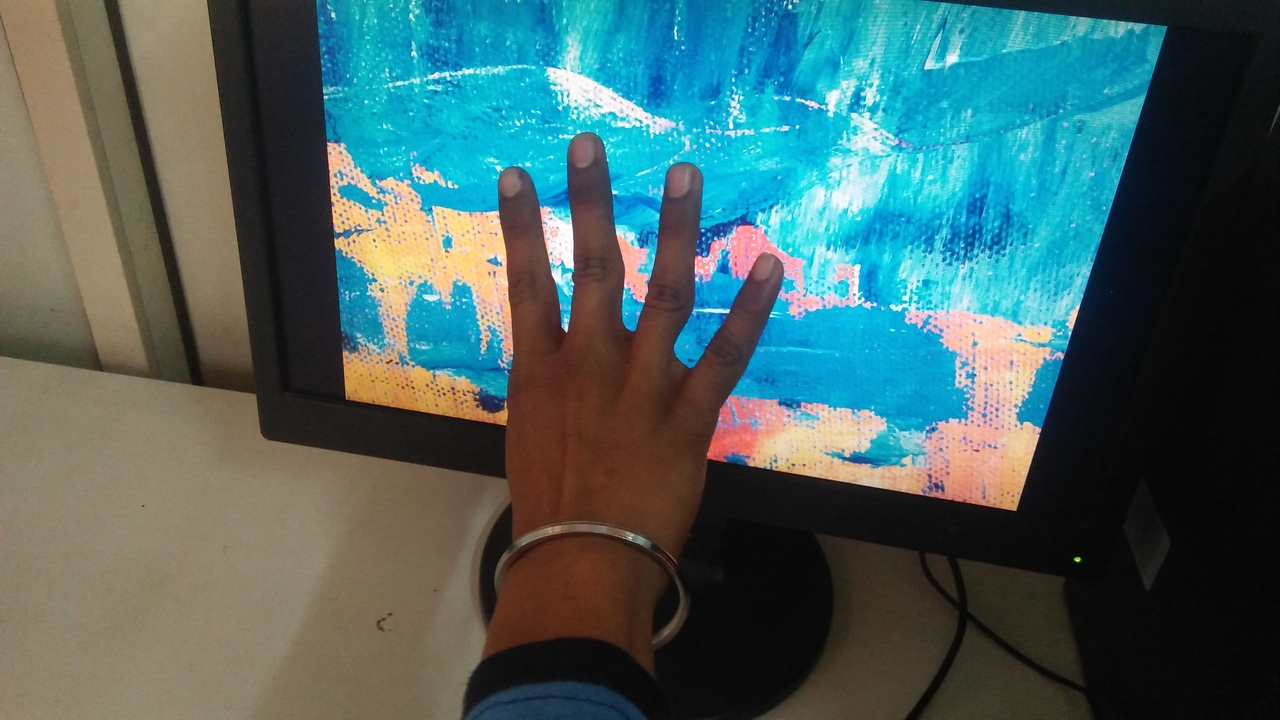fingertip: (734, 246, 790, 298), (558, 124, 614, 174), (490, 156, 542, 204), (658, 152, 708, 196)
